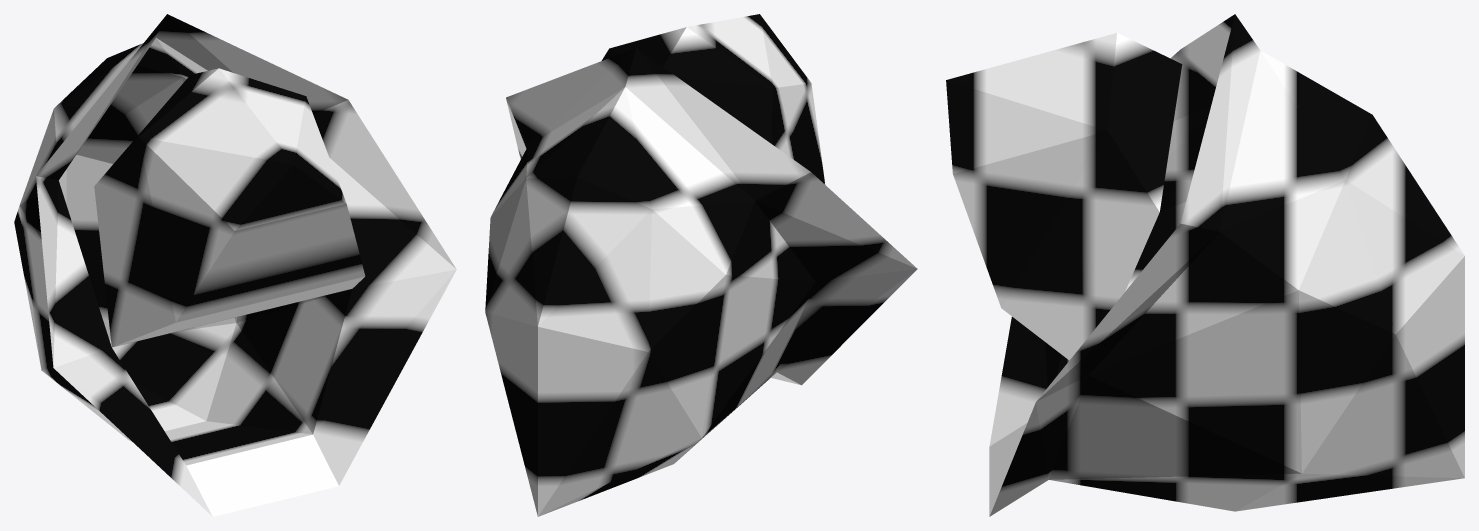
Rendered from initarhl8.dae.
3 renders of one model, left to right at view 1: azimuth 30°, elevation 25°; view 2: azimuth 150°, elevation 25°; view 3: azimuth 270°, elevation 25°, orthographic. The views are drawn at different scales.
Visible parts, largest first — view 1: armor; view 2: armor; view 3: armor.
Boxes of the visible parts, x1,y1,x2,y2 form: armor: (14,14,456,516); armor: (485,14,917,516); armor: (946,14,1464,516).
Bounding box in the file's own units: 1.07 × 1.04 × 1.06.
1 material, 1 textured.
